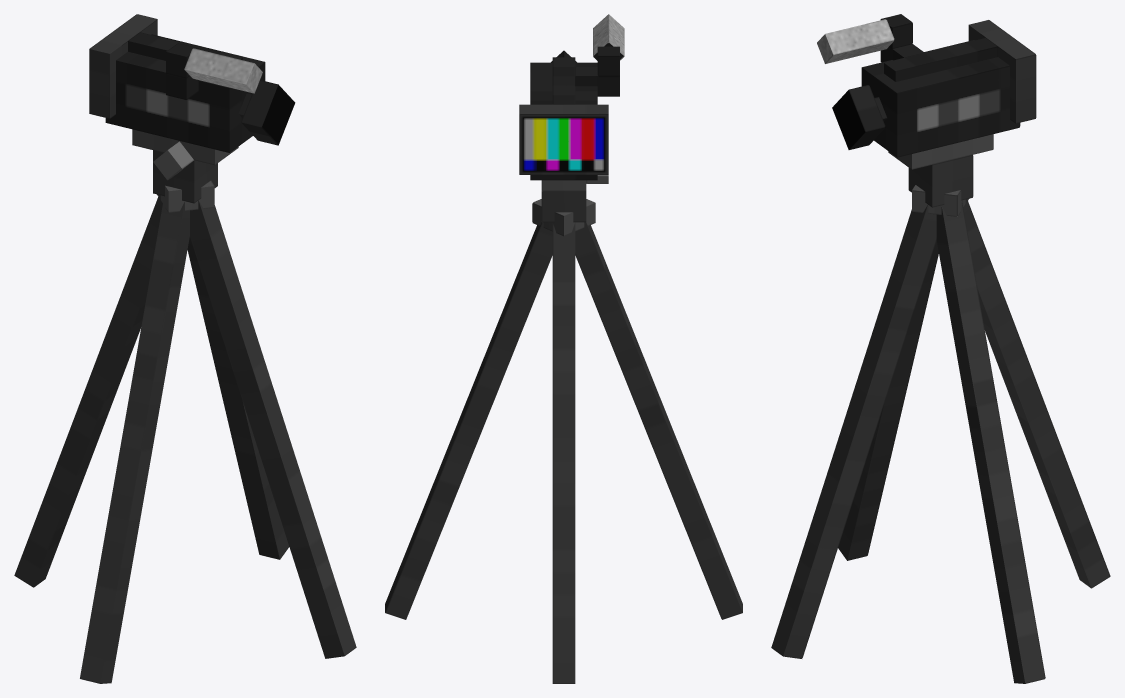
File: studio_camera.obj
The picture shows the model from 3 angles, left to right: view 1: azimuth 30°, elevation 25°; view 2: azimuth 150°, elevation 25°; view 3: azimuth 270°, elevation 25°; orthographic projection. The views are drawn at different scales.
Visible parts, largest first — view 1: li, ll, lj, qr, lk, lo, lr, lu, lm, ln, lp, qp (+3 smaller); view 2: lj, lk, ll, lo, qr, lm, lp, qp, lu, ls, lt, ln; view 3: li, lk, lj, qr, ll, lo, lp, lr, lm, lu, ln, qp (+1 smaller).
Part boxes in pixels (box(x1,y1,x2,y2)): li: box(190, 200, 356, 658); ll: box(80, 197, 189, 683); lj: box(14, 195, 162, 587); qr: box(105, 34, 265, 152); lk: box(187, 237, 289, 559); lo: box(89, 14, 157, 118); lr: box(241, 80, 295, 145); lu: box(184, 48, 262, 93); lm: box(153, 150, 217, 203); ln: box(132, 129, 238, 165); lp: box(128, 32, 242, 60); qp: box(157, 180, 214, 212); lj: box(552, 223, 575, 683); lk: box(385, 222, 552, 619); ll: box(575, 222, 742, 619); lo: box(519, 104, 608, 174); qr: box(530, 62, 597, 180); lm: box(541, 191, 586, 222); lp: box(552, 57, 575, 104); qp: box(532, 199, 595, 236); lu: box(593, 14, 624, 60); ls: box(575, 67, 619, 96); lt: box(597, 46, 619, 76); ln: box(541, 180, 586, 191); li: box(771, 205, 936, 658); lk: box(936, 201, 1045, 683); lj: box(963, 199, 1110, 588); qr: box(861, 40, 1020, 157); ll: box(838, 241, 938, 560); lo: box(968, 20, 1036, 123); lp: box(884, 38, 997, 81); lr: box(832, 85, 885, 149); lm: box(908, 155, 973, 207); lu: box(817, 19, 894, 63); ln: box(888, 134, 993, 169); qp: box(912, 185, 968, 216).
Size of the model in its own units: 1.08 by 2.07 by 1.08.
Materials: 1 (1 with a texture image).
